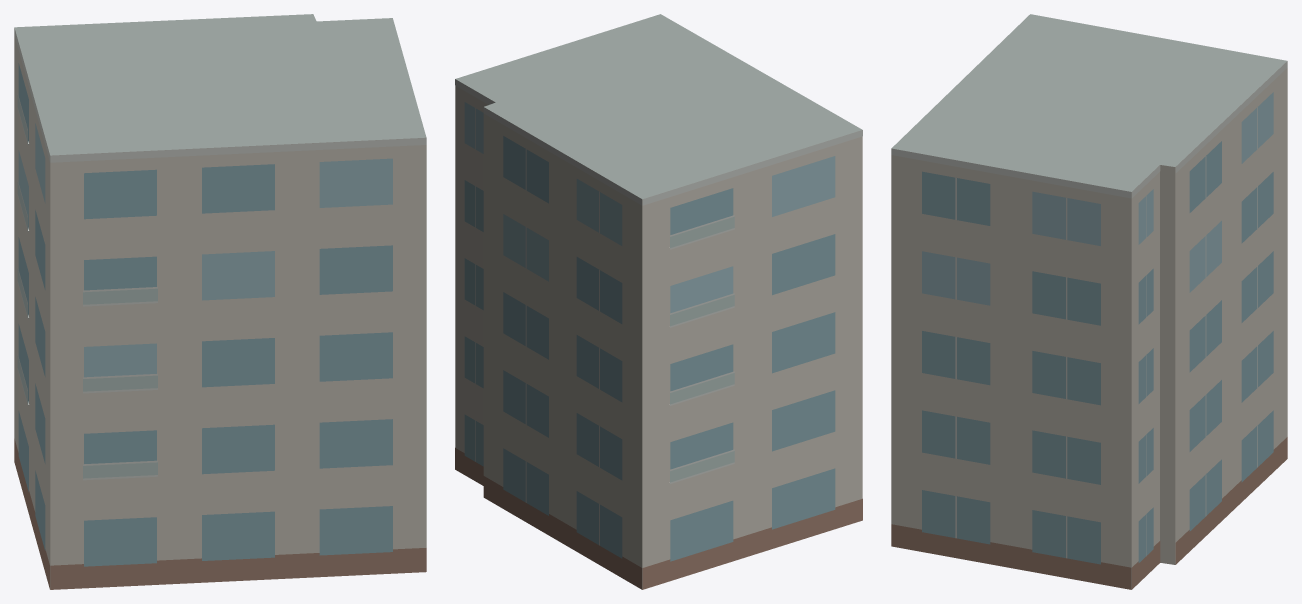
The model's file is survey-upis-32528288.glb.
3 views of the same model, side by side, from view 1: azimuth 30°, elevation 25°; view 2: azimuth 150°, elevation 25°; view 3: azimuth 270°, elevation 25° (orthographic). The views are drawn at different scales.
Parts seen in each view (by area): view 1: survey-upis-32528288.tmp; view 2: survey-upis-32528288.tmp; view 3: survey-upis-32528288.tmp.
Part boxes in pixels (<box>): survey-upis-32528288.tmp: <box>14,14,426,589</box>; survey-upis-32528288.tmp: <box>455,14,862,589</box>; survey-upis-32528288.tmp: <box>891,14,1287,589</box>.
Size of the model in its own units: 14.11 by 14.7 by 13.27.
